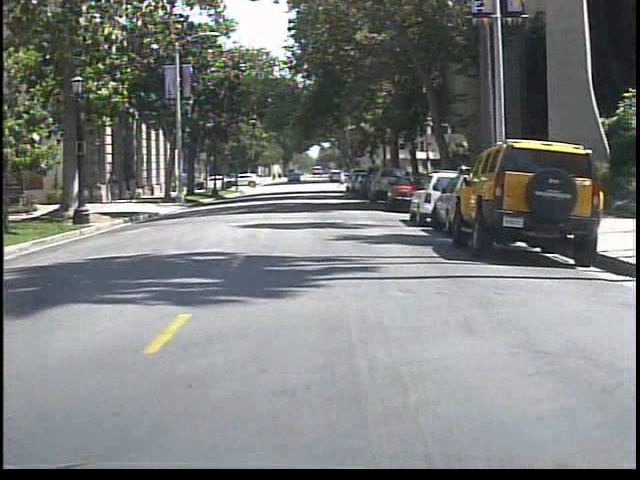person: (106, 171, 126, 207), (125, 173, 146, 206), (337, 167, 351, 192)
